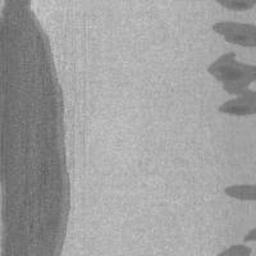Water spot: (0, 0, 72, 256), (205, 50, 256, 118), (211, 19, 256, 50), (215, 227, 256, 256), (223, 183, 256, 202), (215, 0, 256, 13)
